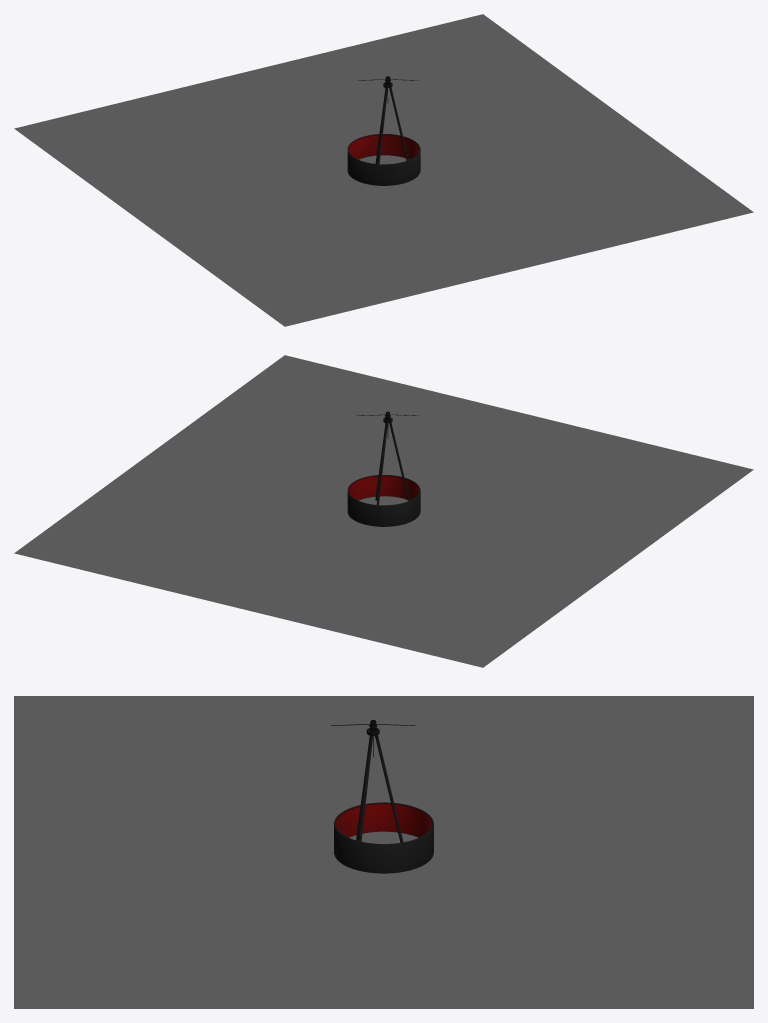
File: floor lamp_1_1_processed.glb
3 renders of one model, top to bottom at view 1: azimuth 30°, elevation 25°; view 2: azimuth 150°, elevation 25°; view 3: azimuth 270°, elevation 25°, orthographic. The views are drawn at different scales.
Parts seen in each view (by area): view 1: FLOOR, LAMP_SHADE, COPPER, MATT_GREY; view 2: FLOOR, LAMP_SHADE, COPPER, MATT_GREY; view 3: FLOOR, LAMP_SHADE, COPPER, MATT_GREY.
Boxes of the visible parts, x1,y1,x2,y2 form: FLOOR: [14, 14, 753, 326]; LAMP_SHADE: [347, 134, 420, 185]; COPPER: [348, 135, 419, 159]; MATT_GREY: [357, 76, 418, 163]; FLOOR: [14, 355, 753, 667]; LAMP_SHADE: [347, 475, 420, 526]; COPPER: [348, 476, 419, 500]; MATT_GREY: [357, 411, 418, 504]; FLOOR: [14, 696, 753, 1008]; LAMP_SHADE: [334, 802, 433, 873]; COPPER: [335, 804, 432, 837]; MATT_GREY: [331, 720, 414, 842].
Size of the model in its own units: 1.09e+07 by 4283169 by 1.09e+07.
5 materials, 4 textured.
